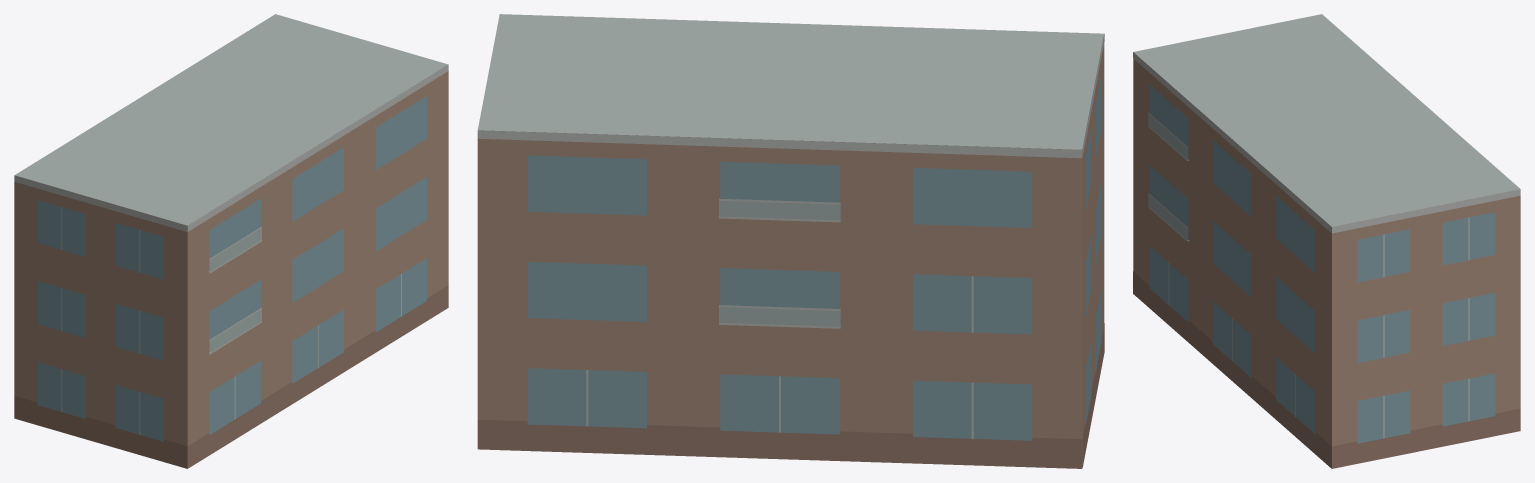
Rendered from survey-upis-32971407.glb.
The picture shows the model from 3 angles, left to right: view 1: azimuth 30°, elevation 25°; view 2: azimuth 150°, elevation 25°; view 3: azimuth 270°, elevation 25°; orthographic projection. The views are drawn at different scales.
Parts seen in each view (by area): view 1: survey-upis-32971407.tmp; view 2: survey-upis-32971407.tmp; view 3: survey-upis-32971407.tmp.
Part boxes in pixels (x1=…): survey-upis-32971407.tmp: x1=14, y1=14, x2=448, y2=468; survey-upis-32971407.tmp: x1=477, y1=14, x2=1104, y2=468; survey-upis-32971407.tmp: x1=1133, y1=14, x2=1520, y2=468.
Bounding box in the file's own units: 17.3 × 9.15 × 13.3.
